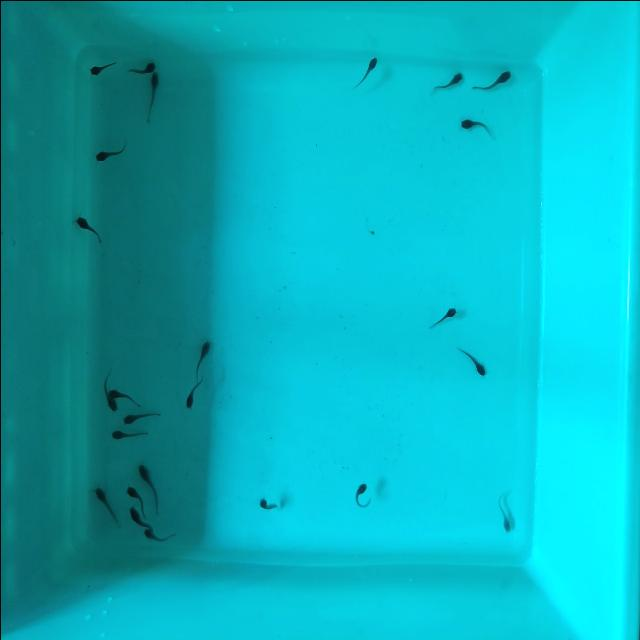lele: (135, 454, 164, 506), (472, 63, 514, 95), (91, 481, 119, 523), (454, 345, 488, 377), (93, 137, 130, 163), (73, 212, 103, 244), (142, 69, 160, 122), (180, 373, 205, 411), (122, 479, 149, 514), (109, 383, 143, 410), (355, 51, 381, 86), (120, 405, 161, 427), (434, 66, 466, 94), (192, 337, 213, 379), (97, 370, 117, 414), (427, 303, 458, 329), (494, 491, 512, 534), (86, 55, 119, 78), (123, 502, 149, 529), (352, 476, 369, 512), (110, 428, 149, 443), (130, 57, 156, 79), (458, 116, 493, 131), (141, 528, 176, 542), (256, 494, 279, 511)
